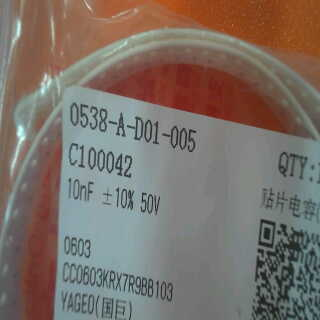10nF: (62, 175, 107, 211)
